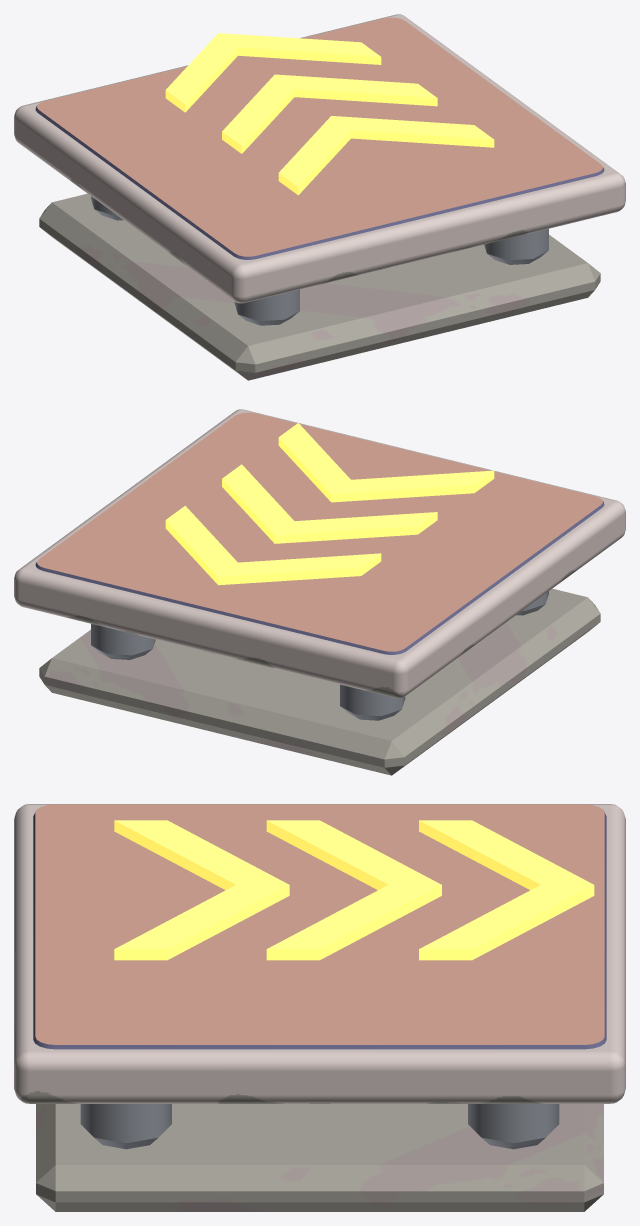
The model's file is R4D_KnockbackTrap.glb.
3 renders of one model, top to bottom at view 1: azimuth 30°, elevation 25°; view 2: azimuth 150°, elevation 25°; view 3: azimuth 270°, elevation 25°, orthographic. The views are drawn at different scales.
Visible parts, largest first — view 1: R4D_KnockbackTrap_Plate, R4D_KnockbackTrap_Body; view 2: R4D_KnockbackTrap_Plate, R4D_KnockbackTrap_Body; view 3: R4D_KnockbackTrap_Plate, R4D_KnockbackTrap_Body.
Boxes of the visible parts, x1=… form: R4D_KnockbackTrap_Plate: x1=14, y1=14, x2=625, y2=303; R4D_KnockbackTrap_Body: x1=39, y1=193, x2=600, y2=380; R4D_KnockbackTrap_Plate: x1=14, y1=409, x2=625, y2=698; R4D_KnockbackTrap_Body: x1=39, y1=588, x2=600, y2=775; R4D_KnockbackTrap_Plate: x1=14, y1=804, x2=625, y2=1103; R4D_KnockbackTrap_Body: x1=36, y1=1104, x2=603, y2=1211.
Bounding box in the file's own units: 0.474 × 0.1841 × 0.474.
5 materials, 4 textured.
